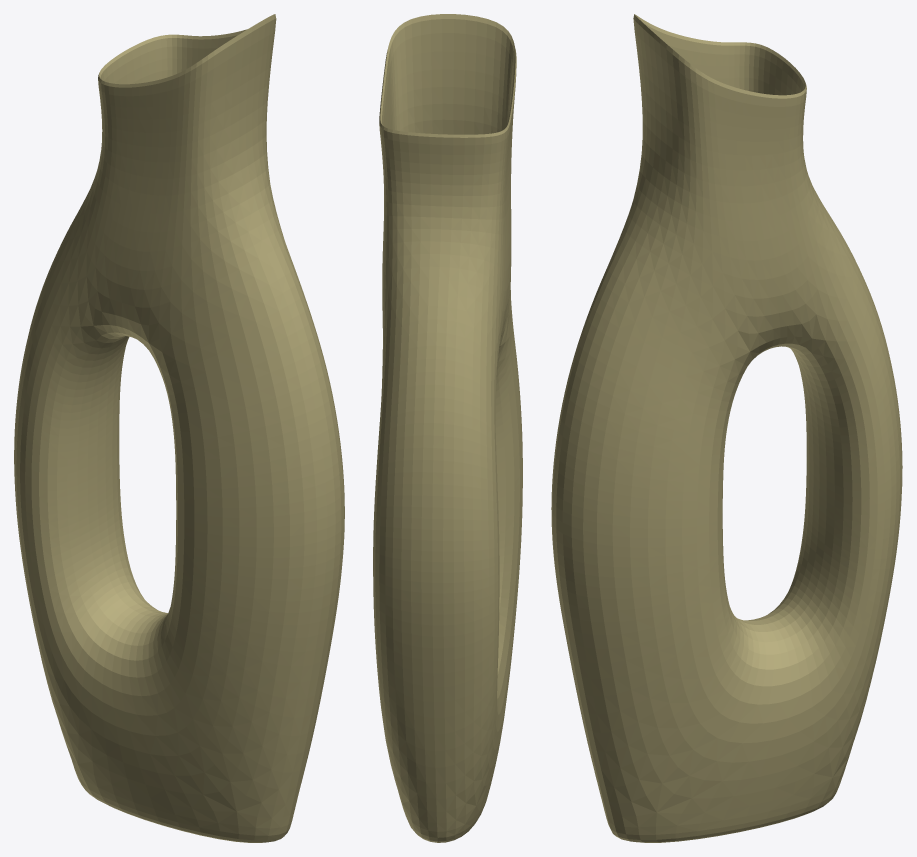
Rendered from vase.dae.
The picture shows the model from 3 angles, left to right: view 1: azimuth 30°, elevation 25°; view 2: azimuth 150°, elevation 25°; view 3: azimuth 270°, elevation 25°; orthographic projection. The views are drawn at different scales.
Parts seen in each view (by area): view 1: Plane001; view 2: Plane001; view 3: Plane001.
Boxes of the visible parts, x1,y1,x2,y2 form: Plane001: (14,14,344,842); Plane001: (373,14,522,842); Plane001: (551,14,902,842).
Size of the model in its own units: 0.4445 by 0.6614 by 1.67.
